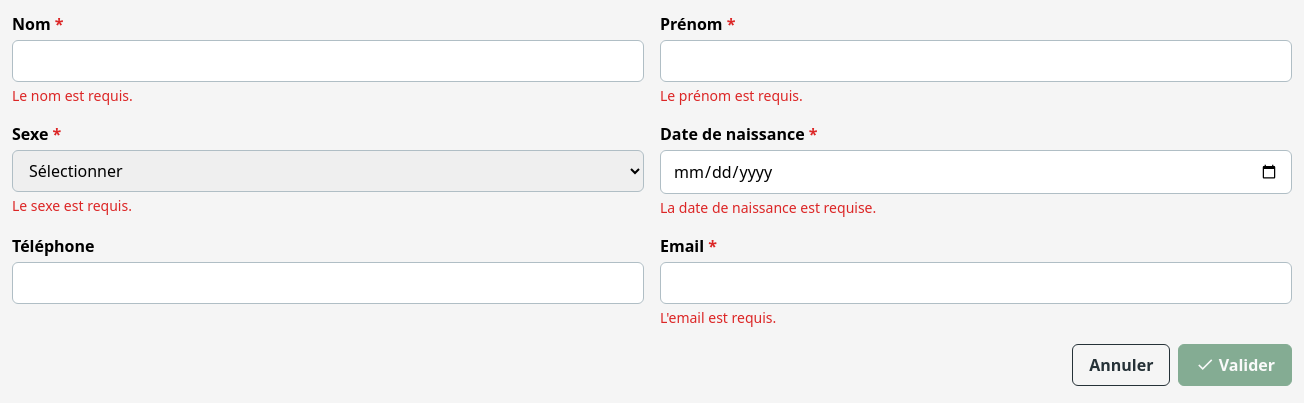
PatientForm.vue - Validation › Champs requis › doit afficher une erreur si la date de naissance est dans le futur
Type "2999-01-01" into the date field with id "dateNaissance" at (976, 172), box [660, 150, 1292, 194]
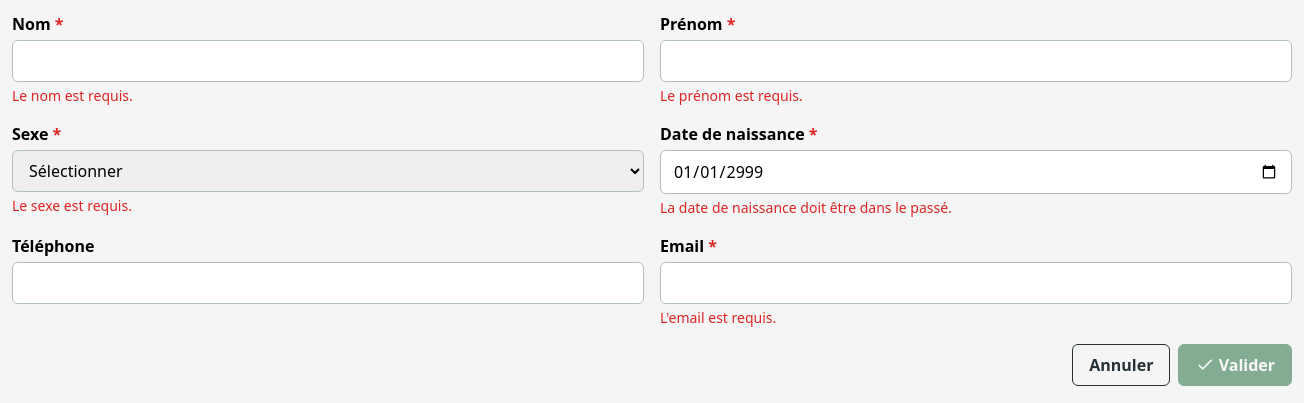
Expected: the text "La date de naissance doit être dans le passé." is shown, [660, 198, 952, 217]
